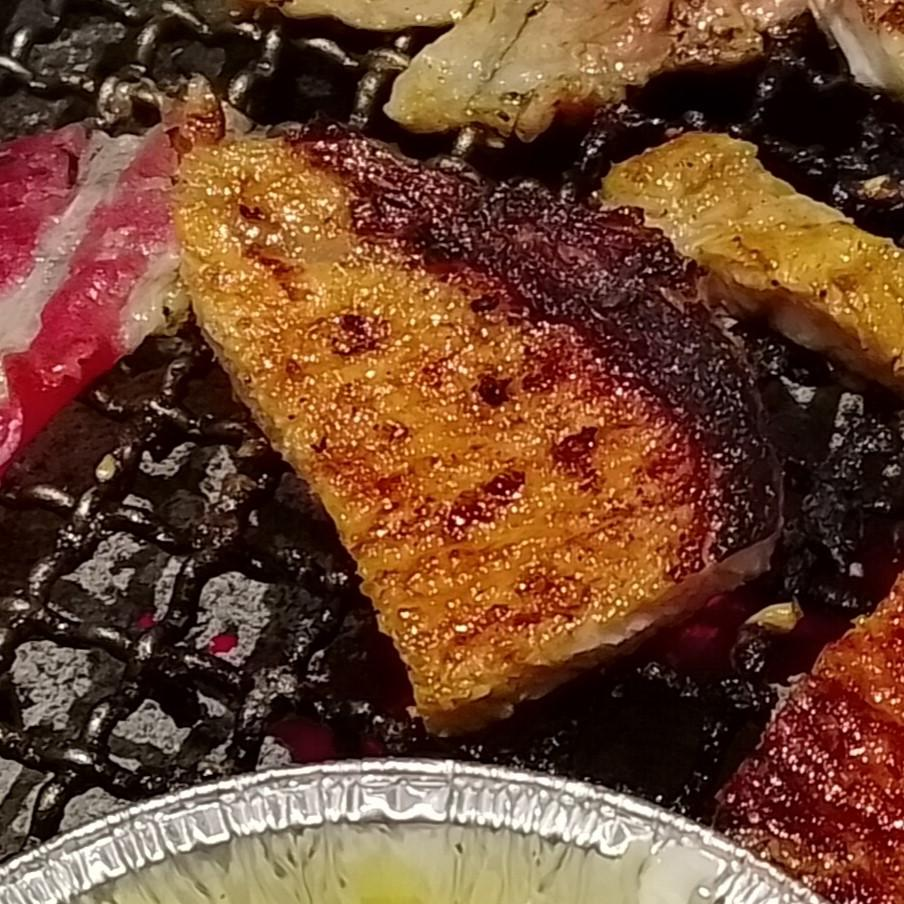Overcooked: (171, 86, 782, 733)
